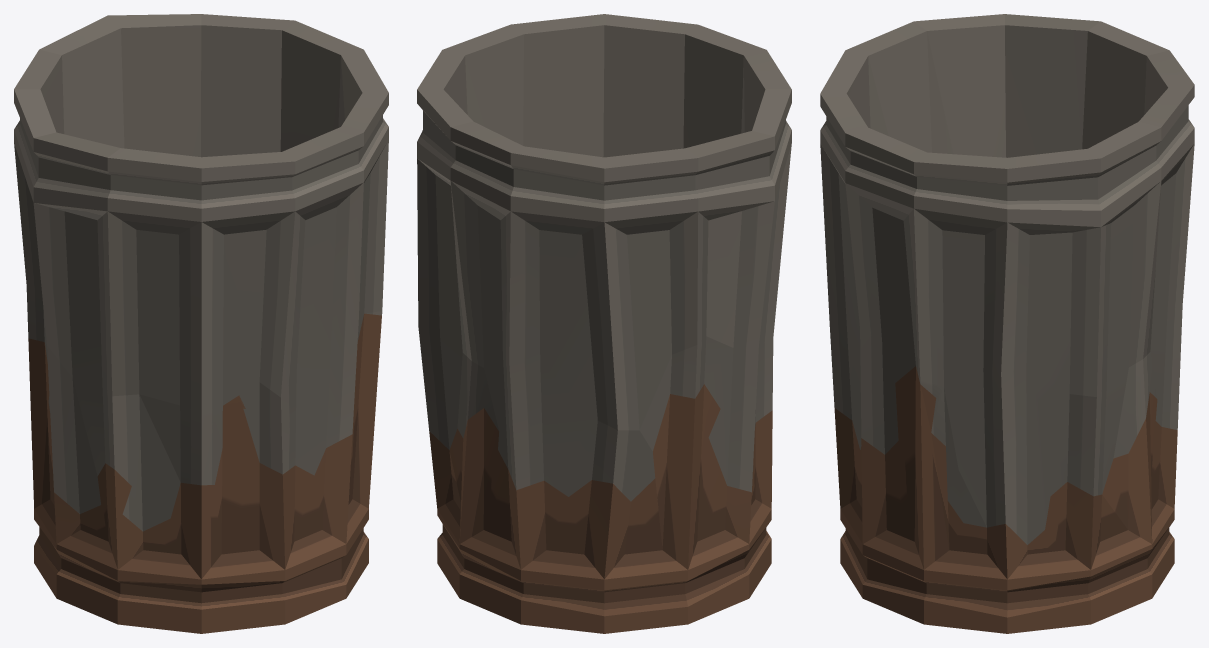
The model's file is SM_Prop_Trash_Can_01.obj.
The picture shows the model from 3 angles, left to right: view 1: azimuth 30°, elevation 25°; view 2: azimuth 150°, elevation 25°; view 3: azimuth 270°, elevation 25°; orthographic projection.
Parts seen in each view (by area): view 1: SM_Prop_Trash_Can_01_0; view 2: SM_Prop_Trash_Can_01_0; view 3: SM_Prop_Trash_Can_01_0.
Part boxes in pixels (box(x1,y1,x2,y2)): SM_Prop_Trash_Can_01_0: box(14, 14, 388, 633); SM_Prop_Trash_Can_01_0: box(417, 14, 791, 633); SM_Prop_Trash_Can_01_0: box(820, 14, 1194, 633).
Bounding box in the file's own units: 0.5443 × 0.7517 × 0.5331.
1 material, 1 textured.
